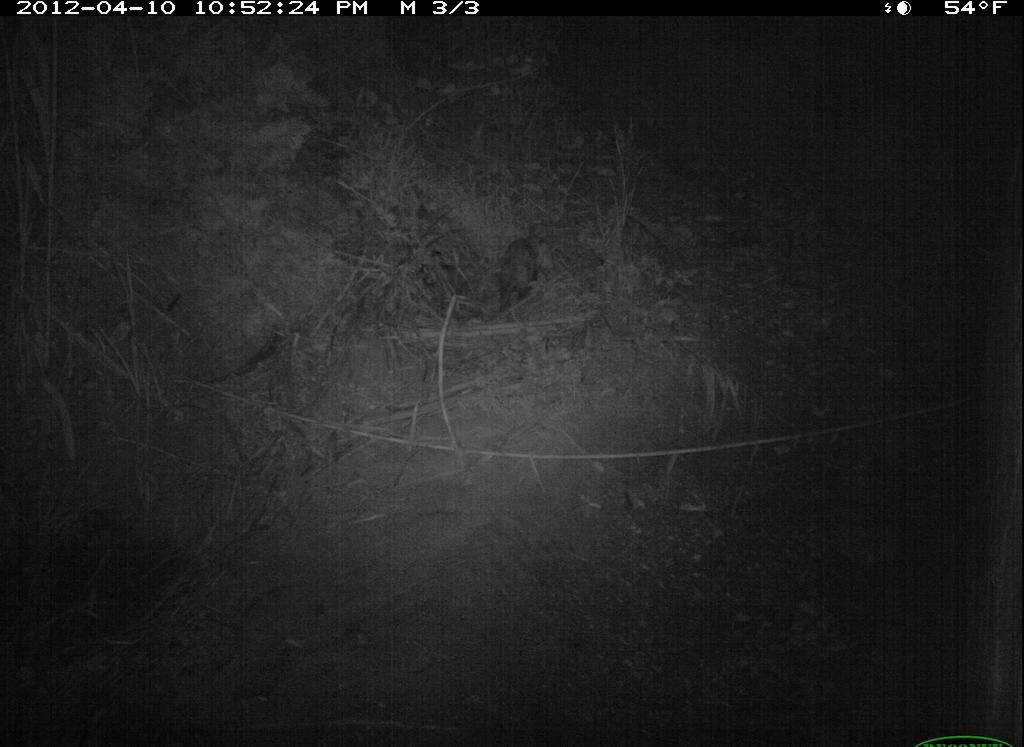opossum: (477, 208, 569, 323)
